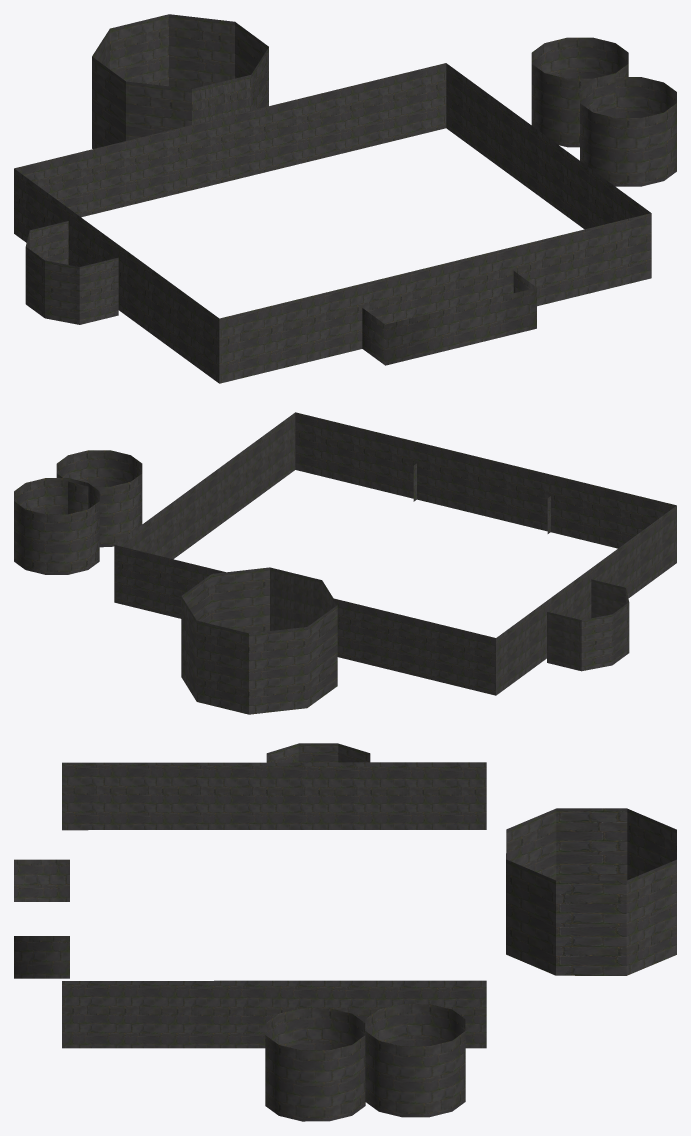
The model's file is wall.FBX.
3 views of the same model, one above another, from view 1: azimuth 30°, elevation 25°; view 2: azimuth 150°, elevation 25°; view 3: azimuth 270°, elevation 25° (orthographic). The views are drawn at different scales.
Parts seen in each view (by area): view 1: M_a1; view 2: M_a1; view 3: M_a1.
Boxes of the visible parts, x1,y1,x2,y2 form: M_a1: (14, 14, 676, 383); M_a1: (14, 412, 676, 714); M_a1: (14, 743, 676, 1121).
Bounding box in the file's own units: 4567 × 658 × 3997.
1 material, 1 textured.
